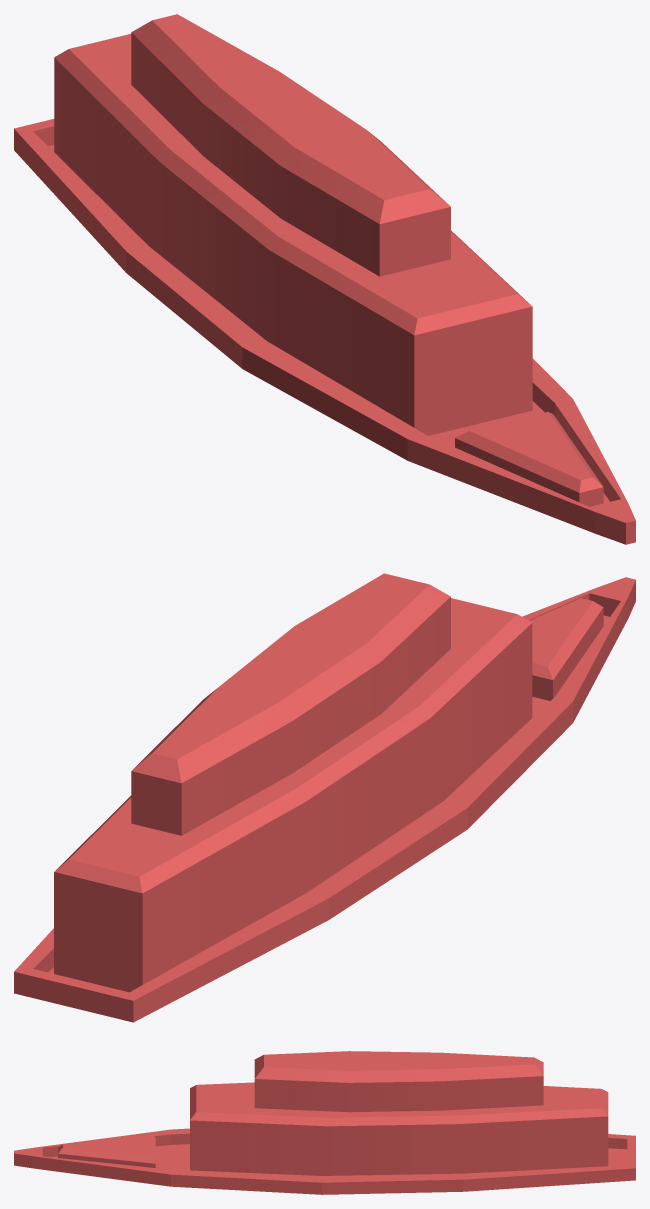
The picture shows the model from 3 angles, top to bottom: view 1: azimuth 30°, elevation 25°; view 2: azimuth 150°, elevation 25°; view 3: azimuth 270°, elevation 25°; orthographic projection. The views are drawn at different scales.
Visible parts, largest first — view 1: polySurface1; view 2: polySurface1; view 3: polySurface1.
Part boxes in pixels (x1,y1,x2,y2): polySurface1: [14, 14, 635, 544]; polySurface1: [14, 573, 635, 1022]; polySurface1: [14, 1051, 635, 1194].
Size of the model in its own units: 5.13 by 4.03 by 21.99.
